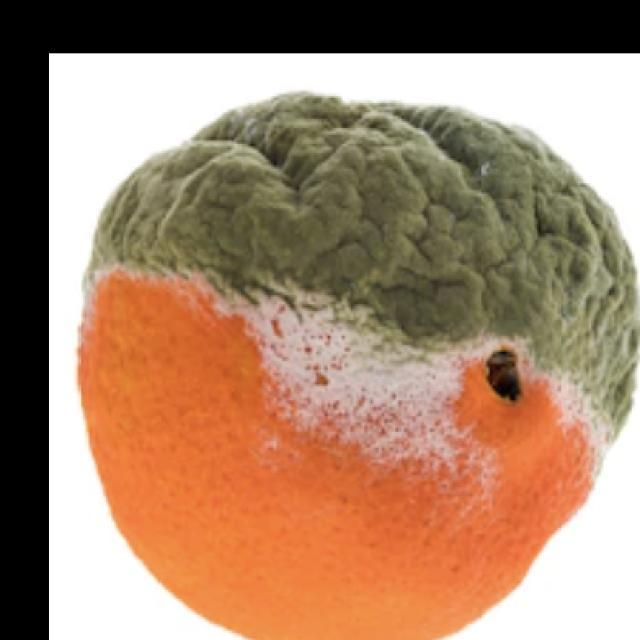sangat-busuk: (78, 93, 639, 639)
